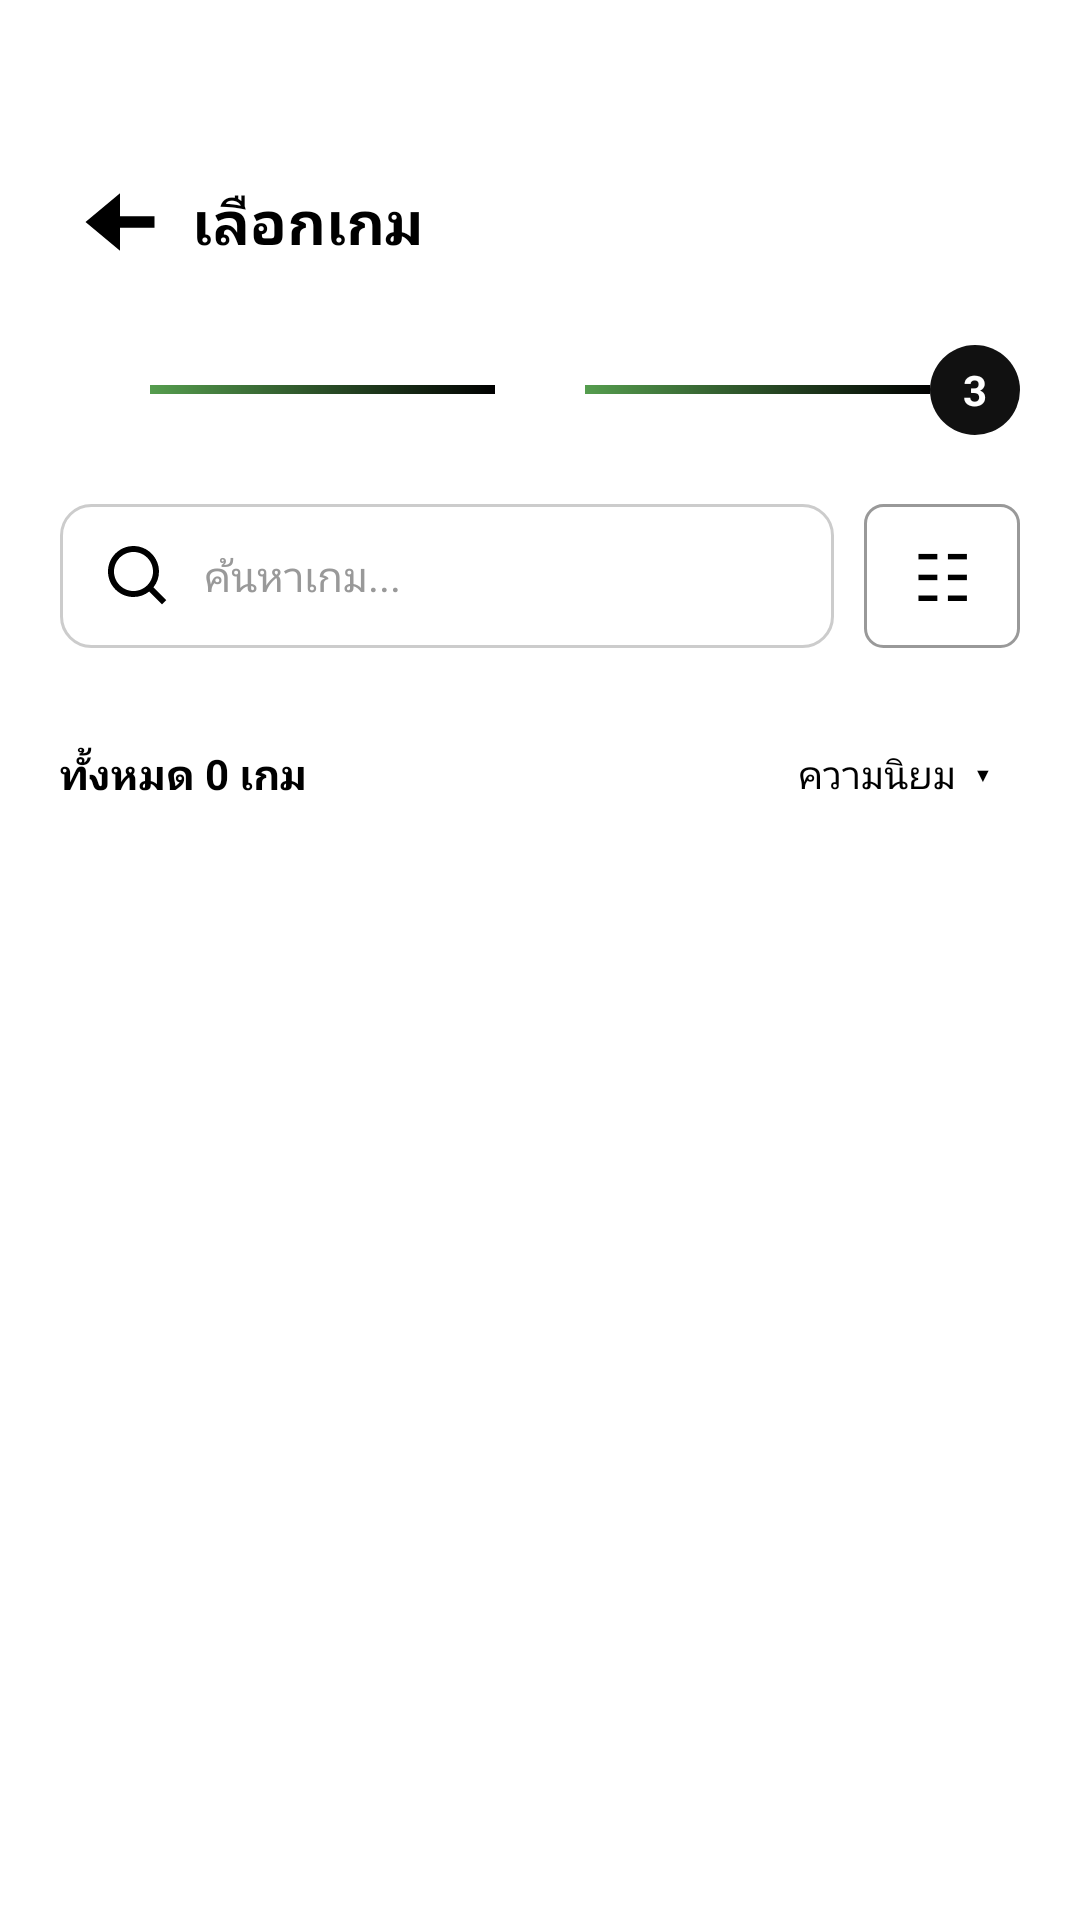

Where to tap for icons on this 1080 x 1920 app screen, as (x=x, y=y):
ย้อนกลับ: (x=120, y=222)
